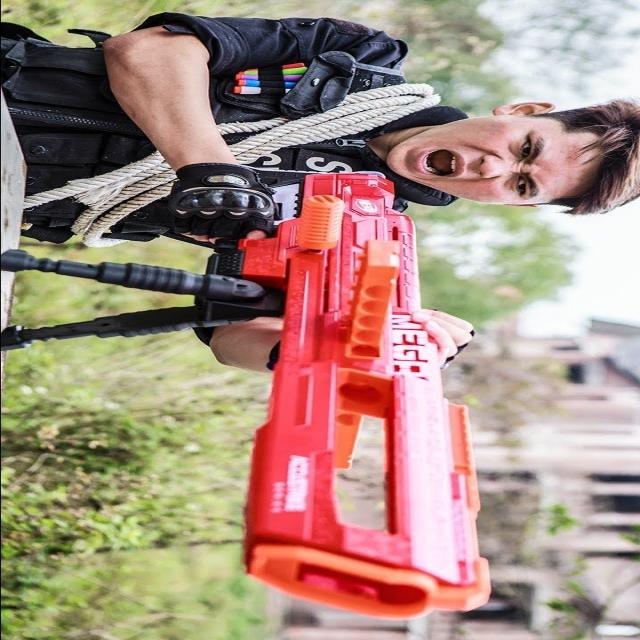Nerf gun: (1, 161, 498, 633)
